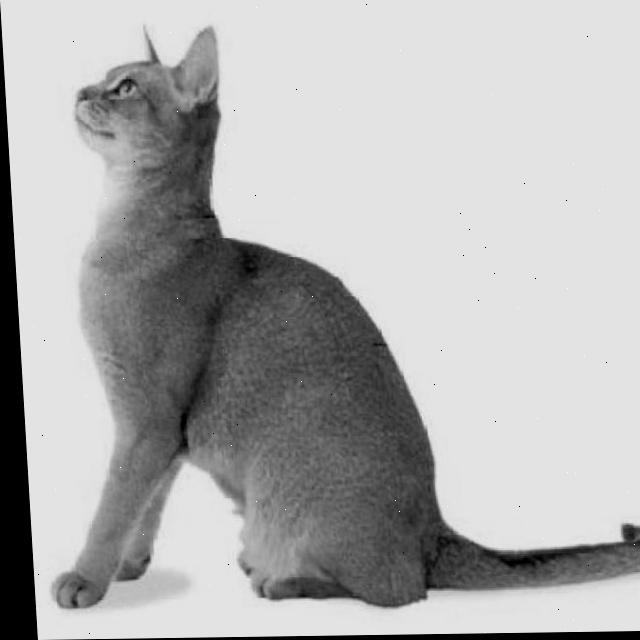Cat: (17, 14, 640, 617)
